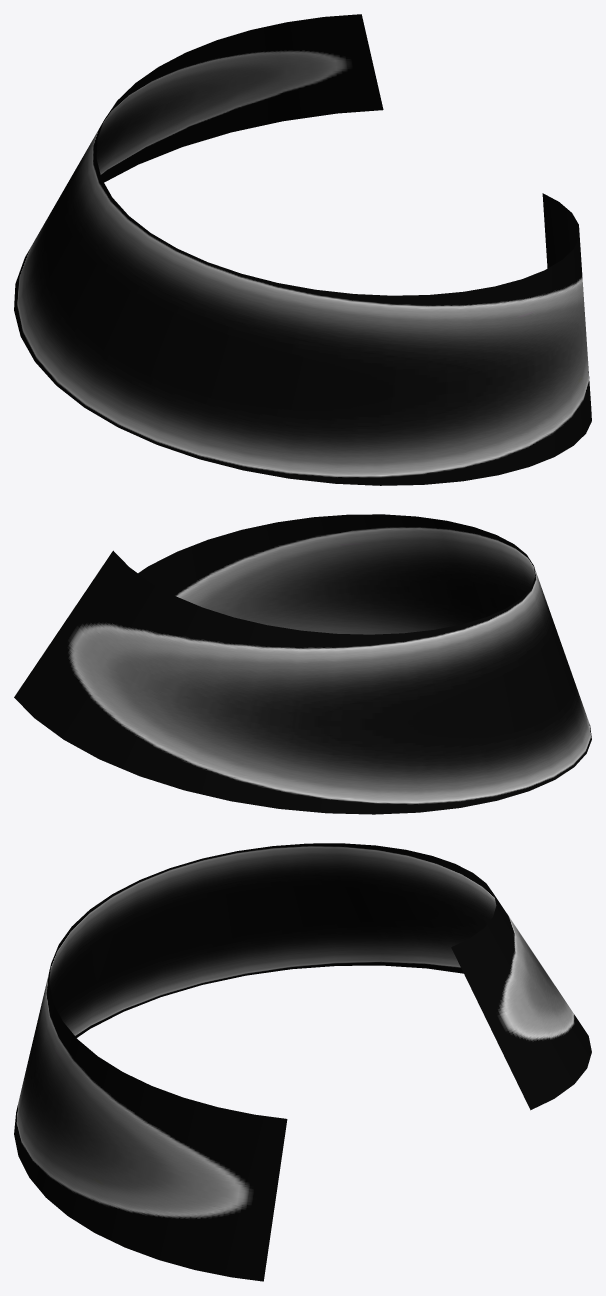
The model's file is 0242_caoxiyi_ring_z02.glb.
3 renders of one model, top to bottom at view 1: azimuth 30°, elevation 25°; view 2: azimuth 150°, elevation 25°; view 3: azimuth 270°, elevation 25°, orthographic. The views are drawn at different scales.
Size of the model in its own units: 1.99 by 1.23 by 2.2.
1 material, 1 textured.
